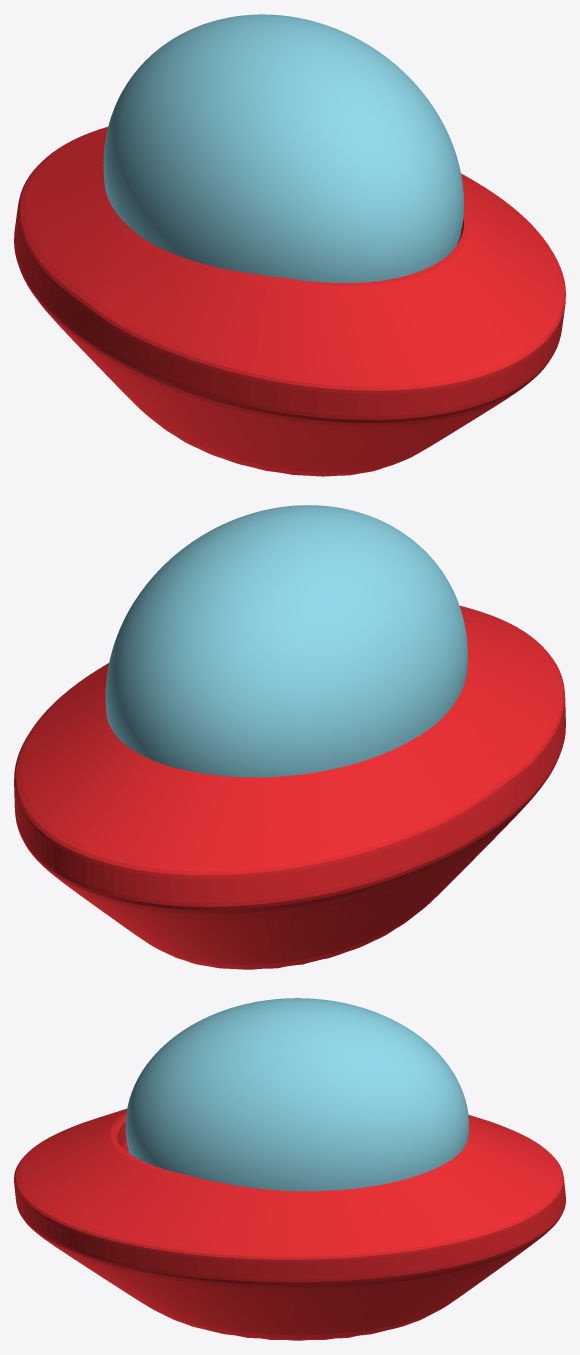
Rendered from Ufo.fbx.
3 views of the same model, one above another, from view 1: azimuth 30°, elevation 25°; view 2: azimuth 150°, elevation 25°; view 3: azimuth 270°, elevation 25° (orthographic). The views are drawn at different scales.
Visible parts, largest first — view 1: 원형, 구체; view 2: 원형, 구체; view 3: 원형, 구체.
Part boxes in pixels (x1,y1,x2,y2): 원형: [14, 127, 565, 476]; 구체: [103, 14, 464, 282]; 원형: [14, 606, 565, 969]; 구체: [105, 505, 467, 777]; 원형: [14, 1108, 565, 1340]; 구체: [125, 998, 468, 1191].
Bounding box in the file's own units: 200 × 173 × 285.
